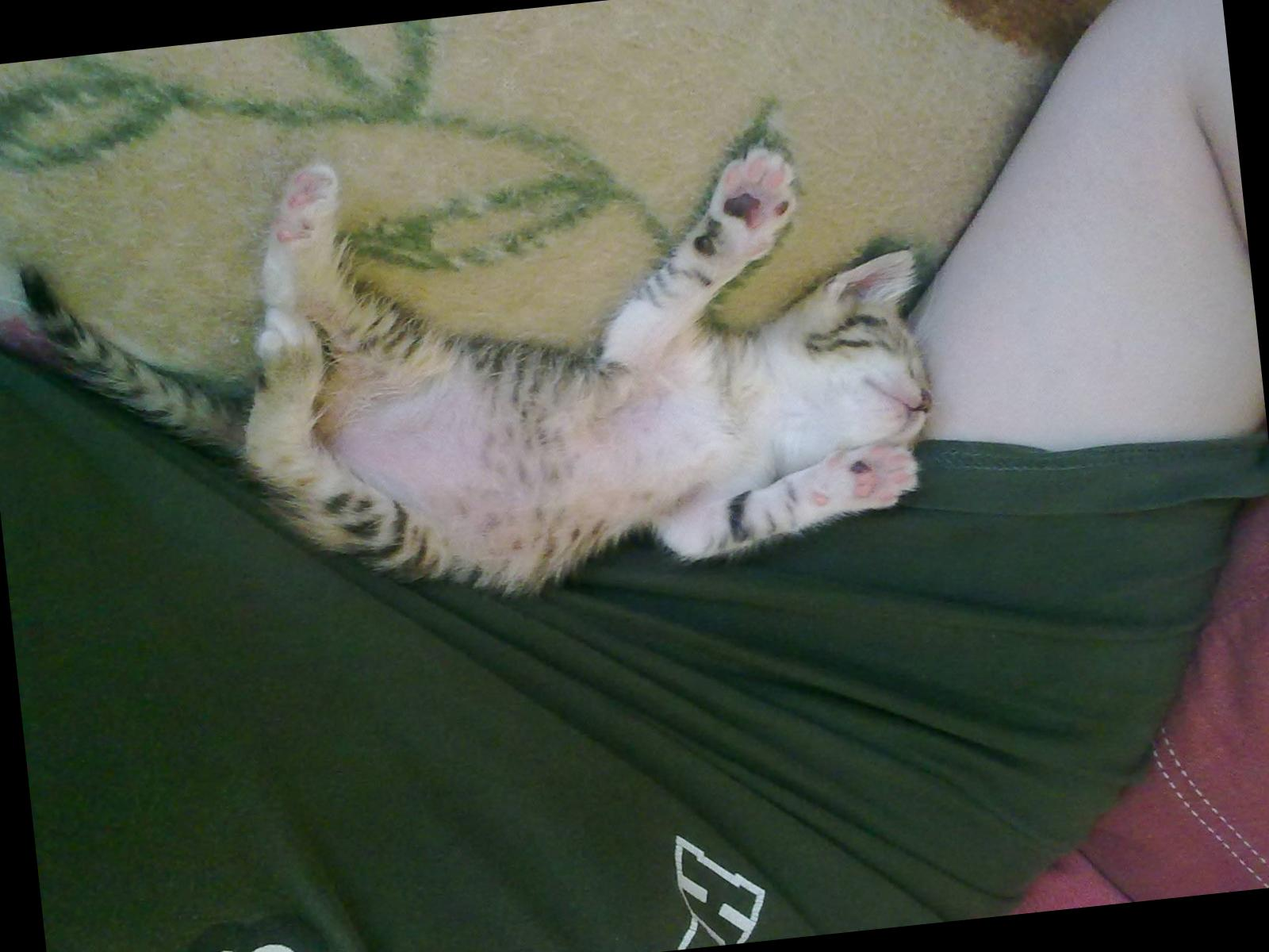macka: (2, 93, 947, 658)
